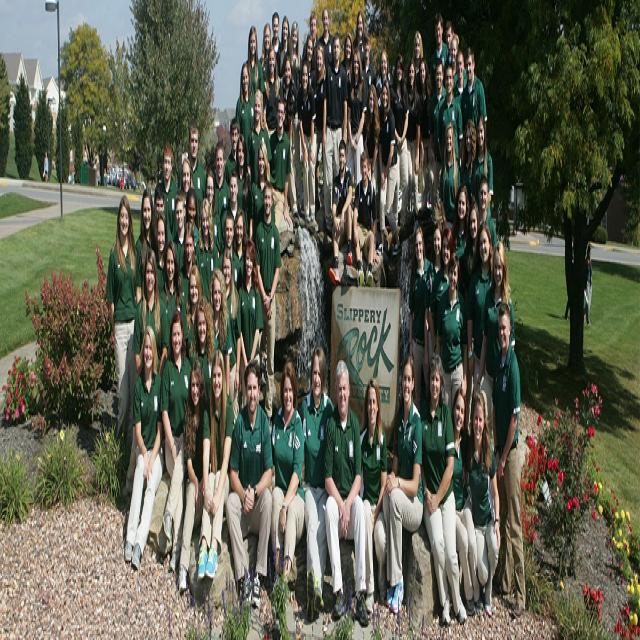body: (420, 350, 469, 630), (323, 352, 370, 630), (224, 356, 274, 613), (296, 340, 340, 626), (380, 350, 426, 619), (489, 298, 527, 622), (122, 322, 167, 578), (123, 246, 168, 498), (104, 192, 138, 505), (464, 384, 502, 624), (196, 344, 234, 583), (160, 308, 193, 575), (270, 359, 306, 595), (450, 384, 485, 619), (474, 237, 516, 430), (254, 179, 283, 439), (359, 375, 389, 616), (178, 359, 208, 597), (434, 250, 468, 421), (322, 28, 348, 240), (376, 78, 402, 258), (237, 237, 264, 410), (467, 219, 493, 396), (408, 223, 431, 417), (388, 51, 411, 232), (295, 58, 318, 228), (283, 18, 303, 213), (221, 246, 242, 430), (427, 225, 455, 362), (328, 137, 353, 290), (352, 146, 378, 292), (188, 295, 219, 415), (160, 237, 190, 357), (462, 201, 480, 400), (278, 52, 299, 220), (268, 95, 293, 235), (208, 265, 233, 397), (562, 232, 596, 329), (428, 56, 447, 225), (346, 46, 368, 189), (376, 45, 392, 235), (249, 138, 276, 250), (134, 186, 158, 310), (436, 61, 463, 171), (246, 86, 272, 196), (194, 197, 220, 305), (469, 110, 494, 220), (439, 121, 462, 235), (186, 118, 208, 234), (311, 43, 326, 213), (426, 220, 444, 360), (417, 55, 433, 211), (461, 46, 488, 137), (156, 140, 180, 241), (406, 58, 421, 219), (451, 182, 470, 308), (234, 60, 256, 168), (184, 262, 205, 368), (218, 207, 243, 292), (262, 45, 284, 140), (362, 82, 381, 184), (234, 134, 253, 235), (178, 220, 197, 314), (220, 166, 240, 255), (477, 173, 498, 253), (429, 13, 449, 97), (460, 116, 478, 207), (244, 24, 266, 95), (204, 168, 221, 255), (214, 138, 232, 220), (301, 9, 323, 76), (360, 30, 378, 110), (172, 190, 189, 274), (232, 207, 248, 293), (153, 178, 173, 246), (153, 210, 169, 293), (183, 185, 200, 256), (223, 115, 240, 186), (300, 34, 318, 98), (277, 12, 294, 79), (317, 4, 334, 70), (269, 10, 284, 79), (352, 9, 367, 73), (452, 49, 466, 110), (443, 20, 455, 90), (259, 21, 272, 83), (95, 162, 126, 188), (340, 33, 354, 85), (410, 30, 424, 77), (179, 158, 194, 201), (450, 33, 459, 76), (42, 148, 50, 185)
